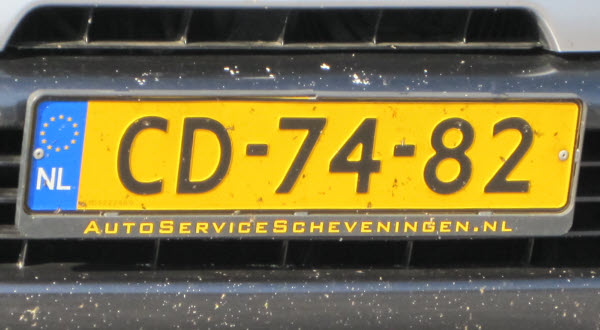license_plate: (22, 96, 582, 217)
